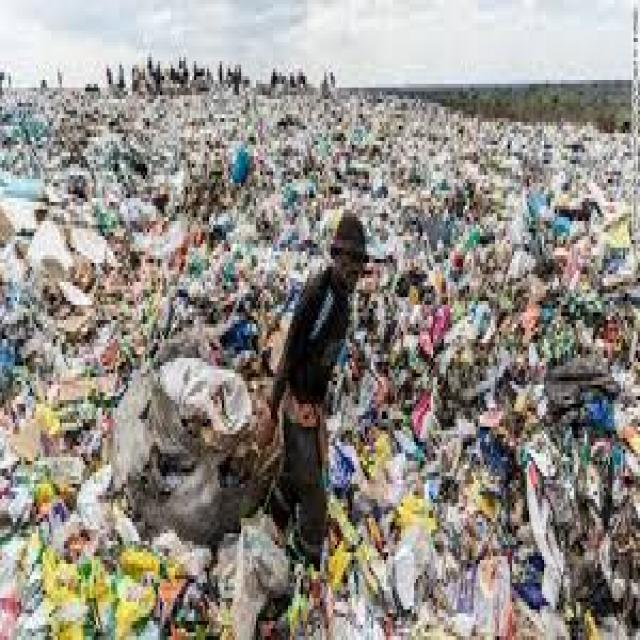plastic: (370, 93, 640, 634)
